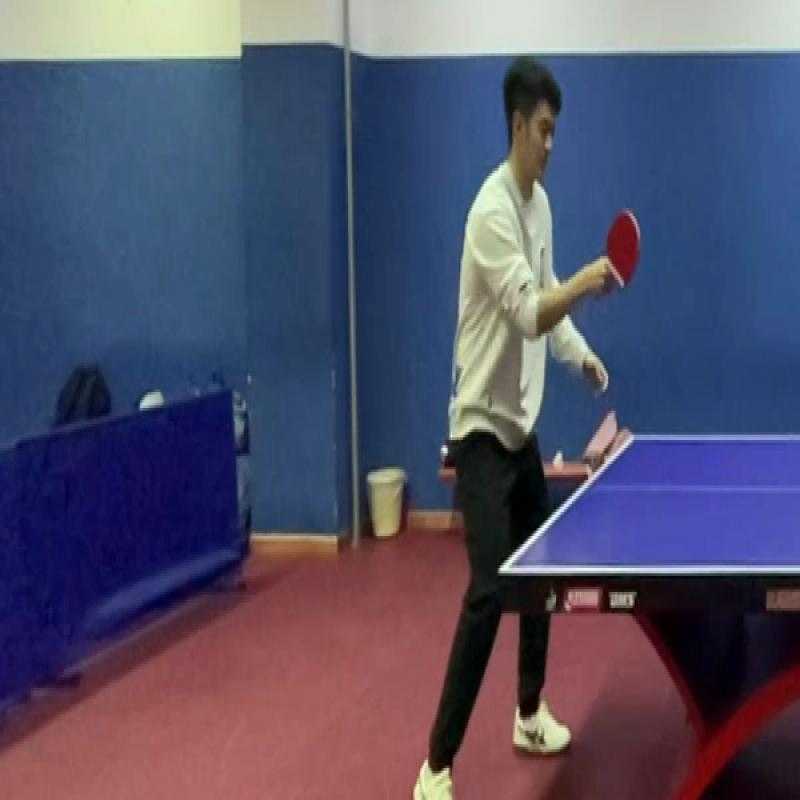bats: (593, 204, 646, 301)
